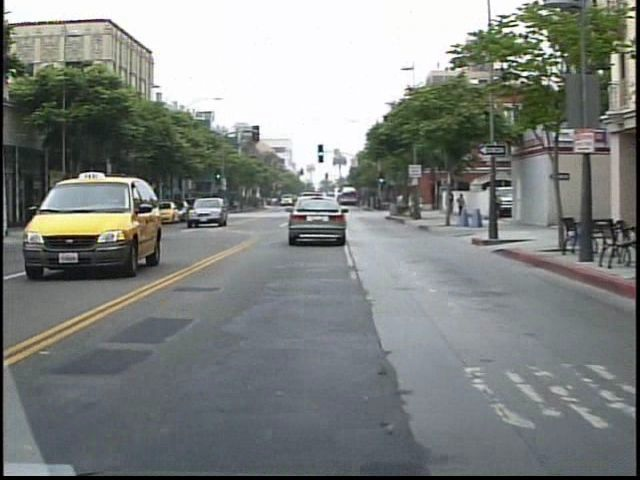person: (431, 183, 447, 224), (384, 188, 402, 218), (447, 187, 462, 222)
